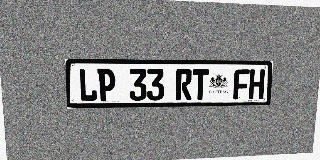3: (129, 69, 146, 101), (147, 69, 164, 101)
F: (233, 69, 250, 99)
H: (248, 69, 265, 99)
L: (78, 68, 97, 102)
P: (97, 69, 116, 101)
R: (175, 69, 192, 100)
T: (192, 69, 209, 100)
